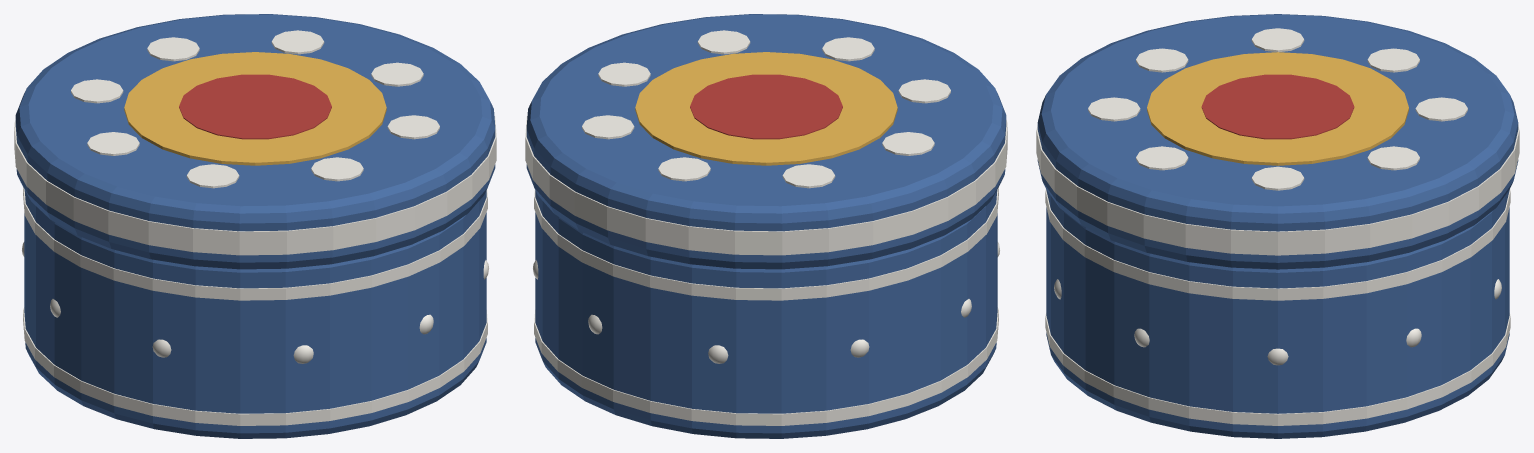
Rendered from hh_cat_biscuit_tin.glb.
3 views of the same model, side by side, from view 1: azimuth 30°, elevation 25°; view 2: azimuth 150°, elevation 25°; view 3: azimuth 270°, elevation 25° (orthographic).
Visible parts, largest first — view 1: tin_body, lid, lid_art, lid_band, lid_art.001, tin_band, tin_band.001, lid_art.003, lid_art.004, lid_art.008, lid_art.009, lid_art.005 (+3 smaller); view 2: tin_body, lid, lid_art, lid_band, lid_art.001, tin_band, tin_band.001, lid_art.008, lid_art.009, lid_art.003, lid_art.004, lid_art.005 (+3 smaller); view 3: tin_body, lid, lid_art, lid_band, lid_art.001, tin_band, tin_band.001, lid_art.003, lid_art.009, lid_art.005, lid_art.006, lid_art.007 (+3 smaller).
Part boxes in pixels (left/top/right/bottom): tin_body: left=24, top=190, right=486, bottom=438; lid: left=15, top=14, right=495, bottom=269; lid_art: left=124, top=52, right=386, bottom=165; lid_band: left=14, top=115, right=496, bottom=255; lid_art.001: left=179, top=74, right=331, bottom=139; tin_band: left=23, top=307, right=487, bottom=425; tin_band.001: left=23, top=187, right=487, bottom=300; lid_art.003: left=271, top=30, right=324, bottom=54; lid_art.004: left=147, top=37, right=199, bottom=61; lid_art.008: left=311, top=157, right=363, bottom=181; lid_art.009: left=387, top=115, right=439, bottom=139; lid_art.005: left=71, top=79, right=123, bottom=103; tin_body: left=535, top=190, right=997, bottom=438; lid: left=526, top=14, right=1006, bottom=269; lid_art: left=635, top=52, right=897, bottom=165; lid_band: left=525, top=115, right=1007, bottom=255; lid_art.001: left=690, top=74, right=842, bottom=139; tin_band: left=534, top=307, right=998, bottom=425; tin_band.001: left=534, top=187, right=998, bottom=300; lid_art.008: left=822, top=37, right=874, bottom=61; lid_art.009: left=697, top=30, right=750, bottom=54; lid_art.003: left=582, top=115, right=634, bottom=139; lid_art.004: left=658, top=157, right=710, bottom=181; lid_art.005: left=782, top=164, right=835, bottom=188; tin_body: left=1046, top=190, right=1509, bottom=438; lid: left=1037, top=14, right=1518, bottom=269; lid_art: left=1147, top=52, right=1408, bottom=165; lid_band: left=1036, top=125, right=1519, bottom=255; lid_art.001: left=1201, top=74, right=1354, bottom=139; tin_band: left=1045, top=313, right=1510, bottom=425; tin_band.001: left=1045, top=189, right=1510, bottom=300; lid_art.003: left=1367, top=146, right=1419, bottom=170; lid_art.009: left=1136, top=146, right=1188, bottom=170; lid_art.005: left=1367, top=48, right=1419, bottom=72; lid_art.006: left=1251, top=28, right=1304, bottom=52; lid_art.007: left=1136, top=48, right=1188, bottom=72.
Size of the model in its own units: 0.22 by 0.12 by 0.22.
